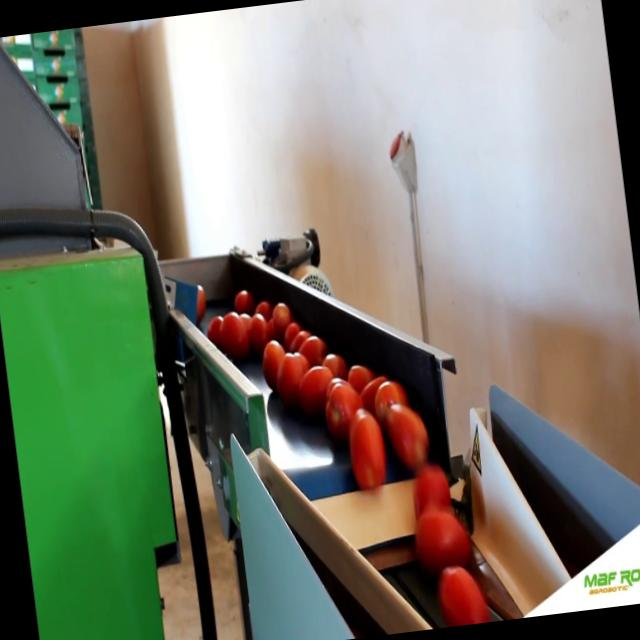Tomato: (344, 403, 394, 505), (433, 560, 496, 628), (412, 507, 472, 568), (382, 398, 432, 470), (412, 460, 461, 519), (318, 378, 362, 430), (371, 374, 413, 424), (296, 363, 338, 412), (258, 342, 296, 393), (274, 352, 312, 402), (220, 307, 246, 353), (246, 312, 272, 347), (189, 284, 209, 322), (301, 337, 328, 363), (348, 359, 372, 388), (272, 300, 293, 330), (232, 284, 252, 310), (206, 316, 224, 344), (252, 298, 274, 318), (284, 322, 300, 341)
